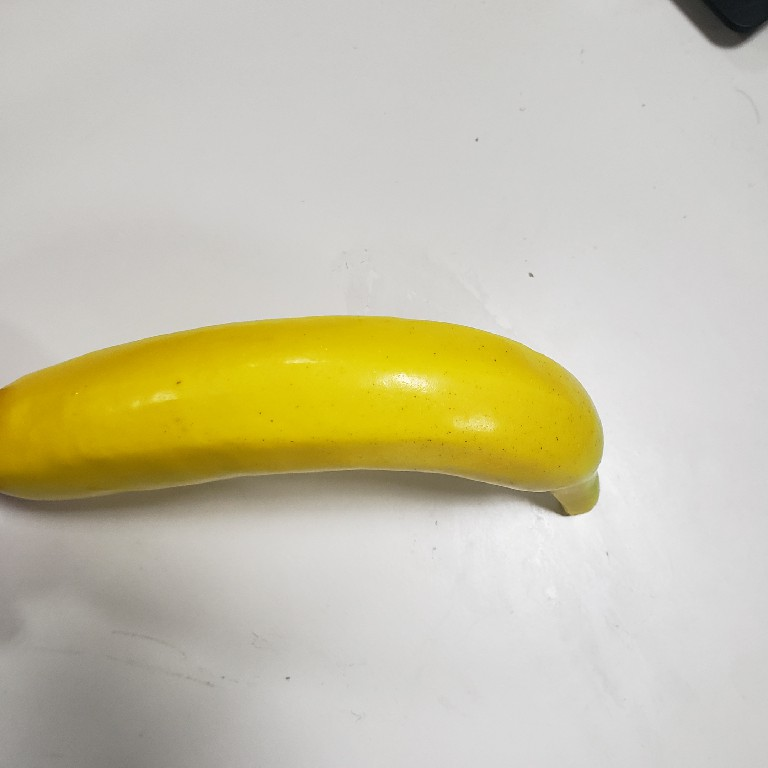fruit_banana: (1, 309, 609, 525)
